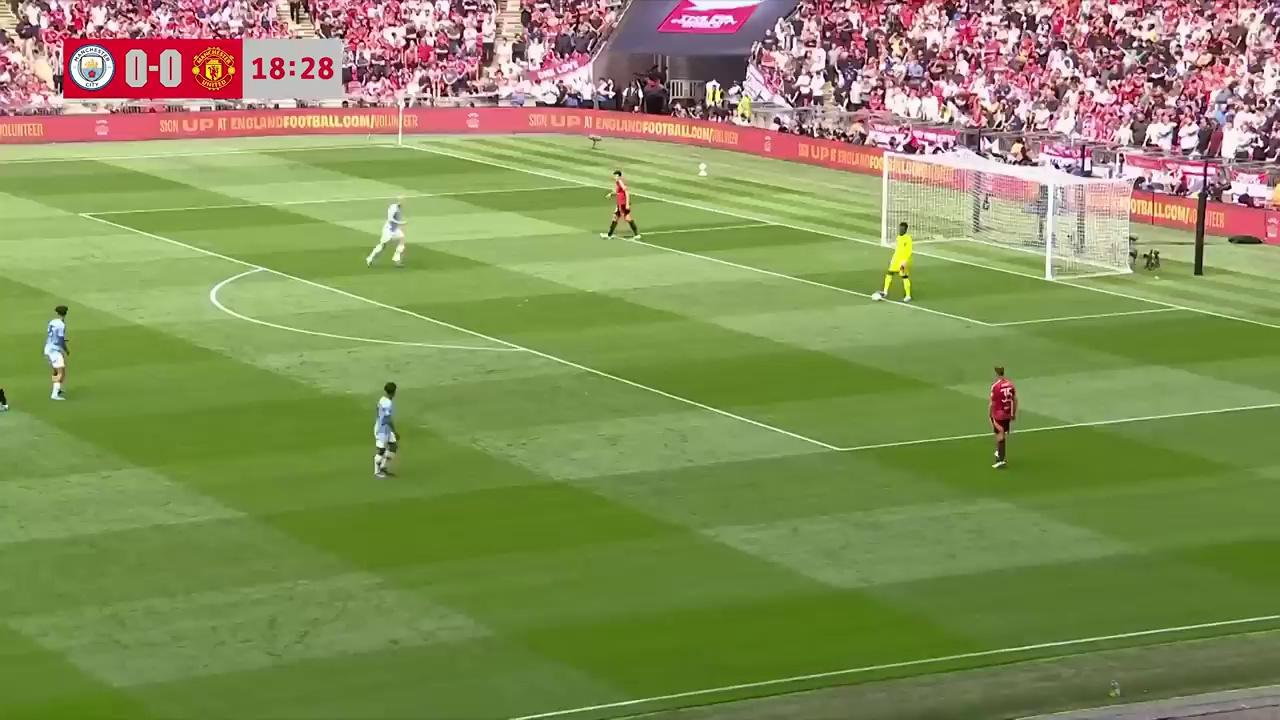ball: (871, 290, 883, 303)
player: (988, 364, 1017, 469), (365, 199, 406, 268), (878, 225, 913, 302), (43, 304, 71, 400), (372, 382, 399, 478), (604, 168, 640, 239), (0, 339, 9, 411)
